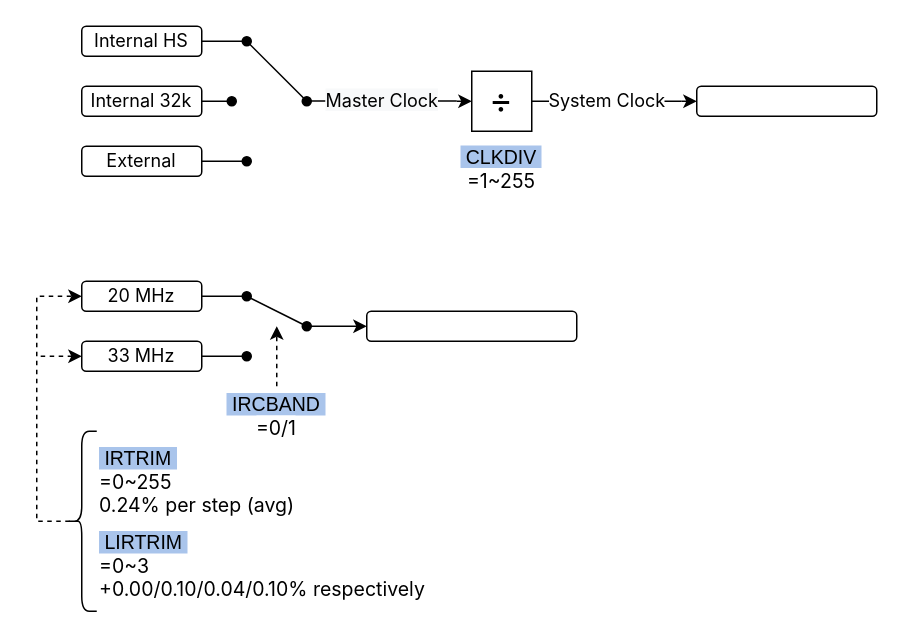
This 903x638 diagram has some shape labels left out. Each missing label, with the centre of its shape:
"CPU & Peripherals" goes at (786,100).
"Master Clock Switch" goes at (471,325).
